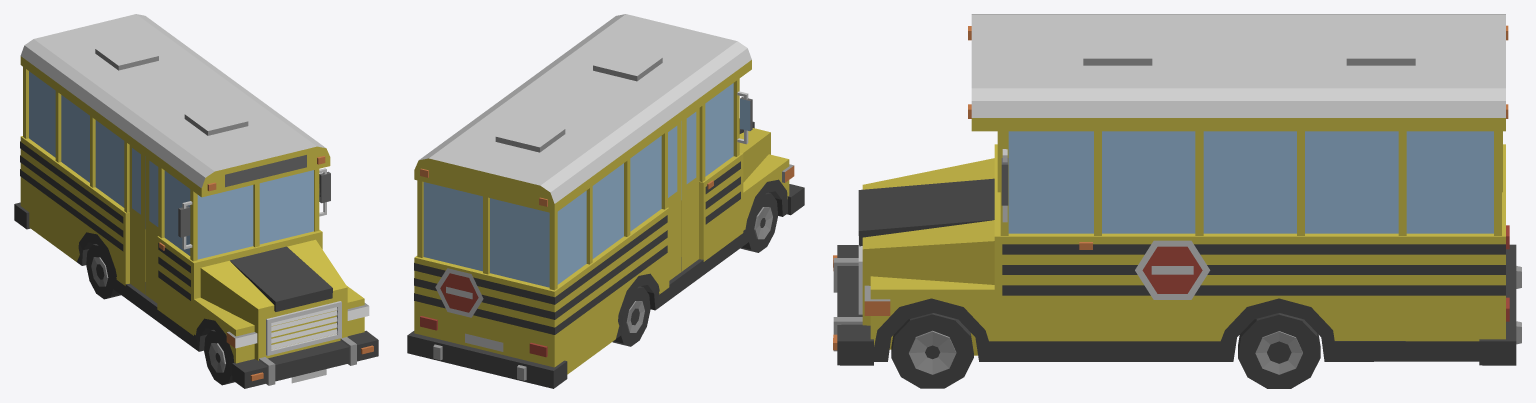
Rendered from transport_bus_002.fbx.
3 views of the same model, side by side, from view 1: azimuth 30°, elevation 25°; view 2: azimuth 150°, elevation 25°; view 3: azimuth 270°, elevation 25° (orthographic). The views are drawn at different scales.
Parts seen in each view (by area): view 1: transport_bus_002; view 2: transport_bus_002; view 3: transport_bus_002.
Boxes of the visible parts, x1=… form: transport_bus_002: x1=14, y1=14, x2=378, y2=388; transport_bus_002: x1=407, y1=14, x2=804, y2=388; transport_bus_002: x1=833, y1=14, x2=1521, y2=388.
Bounding box in the file's own units: 202 × 262 × 544.
